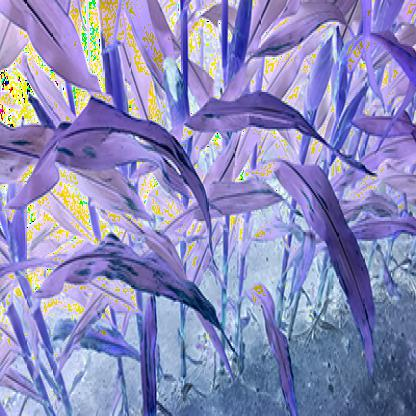Corn leaf blight: (251, 155, 378, 370), (12, 110, 214, 241), (33, 243, 222, 342), (1, 120, 150, 225), (181, 87, 378, 164), (158, 173, 287, 239), (243, 282, 300, 414)
